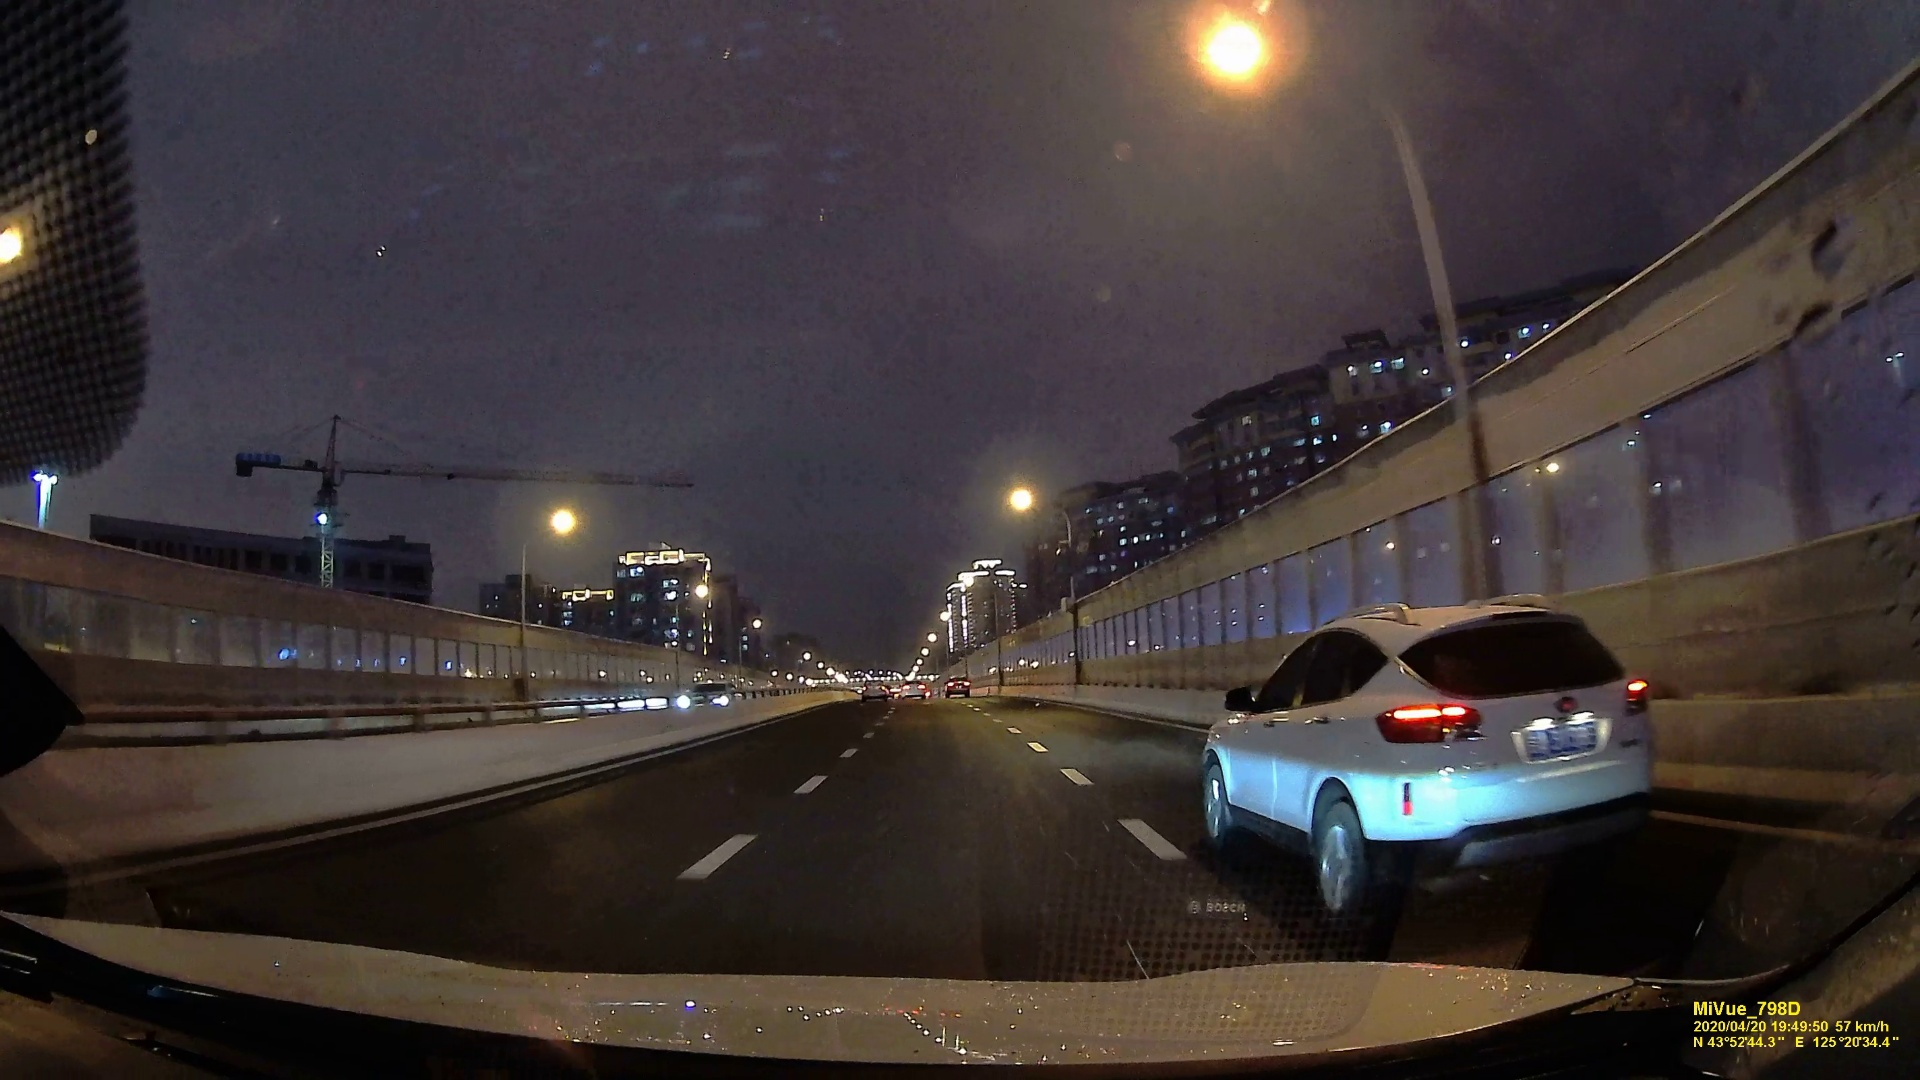vehicle: (1193, 600, 1662, 920), (673, 680, 740, 708), (858, 678, 889, 702), (945, 674, 971, 698), (902, 679, 926, 699)
